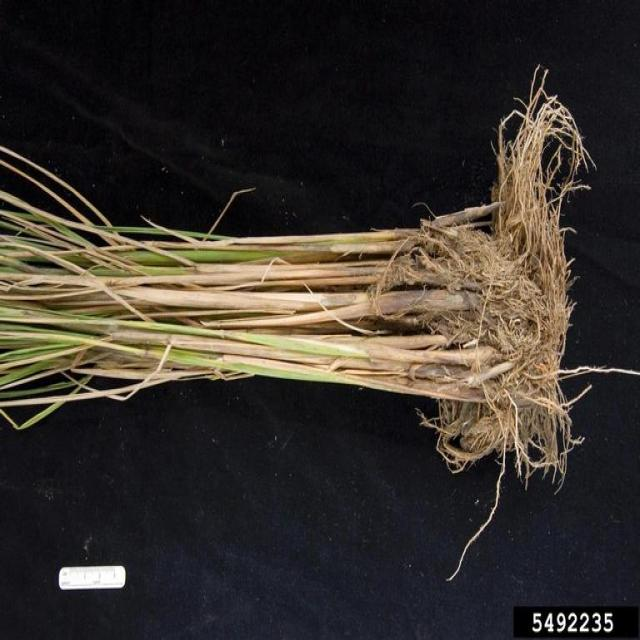Bacterial leaf blight: (6, 151, 546, 423)
